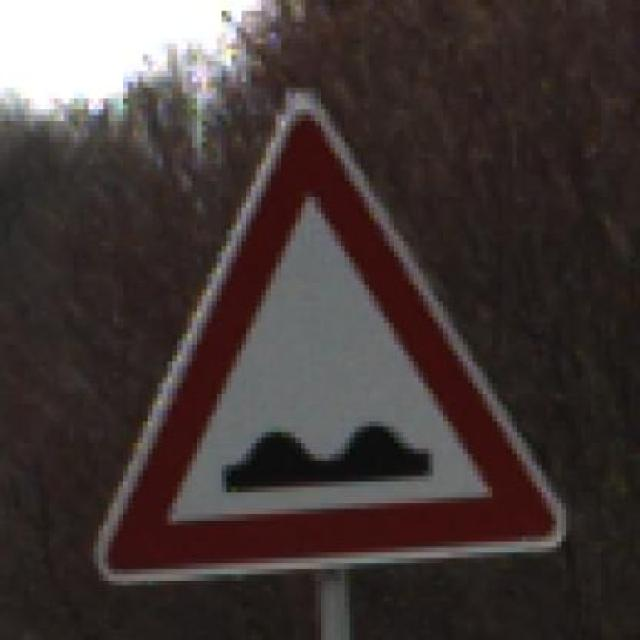Uneven Road: (64, 77, 581, 586)
